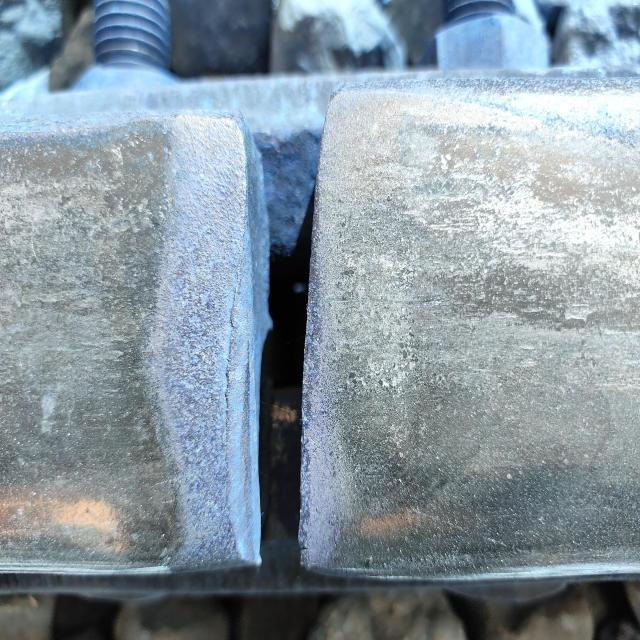railway_join_bar_defects_low: (175, 85, 374, 568)
